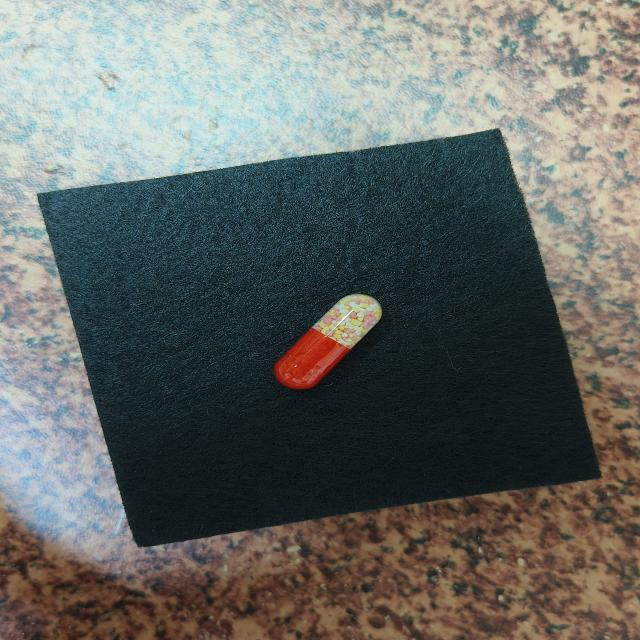Intact Capsule: (274, 294, 382, 389)
